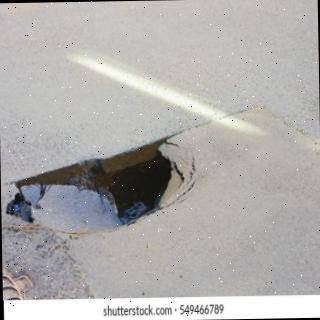pothole: (6, 136, 192, 236)
